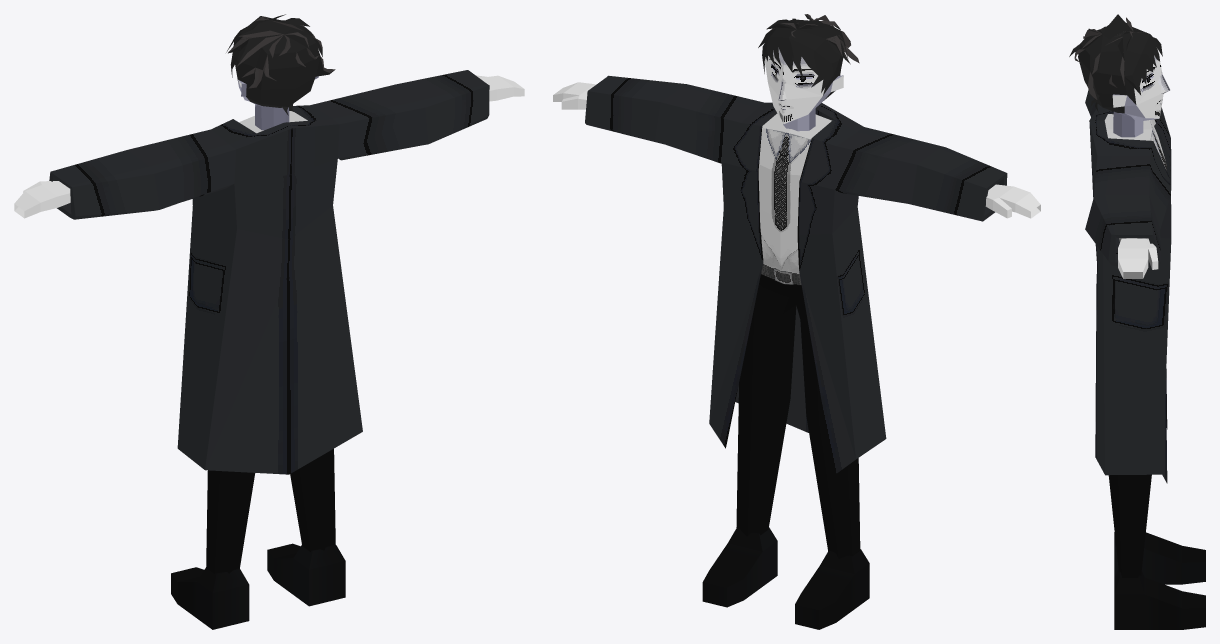
The model's file is modelogabrielgaspard(3).gltf.
The picture shows the model from 3 angles, left to right: view 1: azimuth 30°, elevation 25°; view 2: azimuth 150°, elevation 25°; view 3: azimuth 270°, elevation 25°; orthographic projection. The views are drawn at different scales.
Visible parts, largest first — view 1: Sobretudo, Sapato Esquerdo, Calça Esquerda, Cabeça.001; view 2: Sobretudo, Calça Esquerda, Sapato Esquerdo, Tronco, Cabeça.001; view 3: Sobretudo, Sapato Esquerdo, Cabeça.001, Calça Esquerda, Tronco, Pescoço.001, Ponta Dir, Meio Dir, Palma Dir, Dedão Dir.
Boxes of the visible parts, box(x1,y1,x2,y2) form: Sobretudo: box(49, 70, 489, 474); Sapato Esquerdo: box(171, 543, 345, 629); Calça Esquerda: box(206, 449, 335, 573); Cabeça.001: box(226, 14, 335, 115); Sobretudo: box(585, 75, 1007, 474); Calça Esquerda: box(736, 285, 860, 558); Sapato Esquerdo: box(702, 527, 869, 629); Tronco: box(758, 113, 831, 297); Cabeça.001: box(758, 14, 859, 123); Sobretudo: box(1085, 90, 1171, 483); Sapato Esquerdo: box(1114, 532, 1205, 629); Cabeça.001: box(1069, 14, 1169, 120); Calça Esquerda: box(1108, 474, 1151, 577); Tronco: box(1104, 114, 1166, 171); Pescoço.001: box(1113, 111, 1143, 137); Ponta Dir: box(1118, 258, 1148, 278); Meio Dir: box(1118, 248, 1148, 258); Palma Dir: box(1118, 238, 1147, 248); Dedão Dir: box(1145, 238, 1158, 269).
Size of the model in its own units: 7.44 by 8.41 by 1.82.
Materials: 5 (4 with a texture image).
